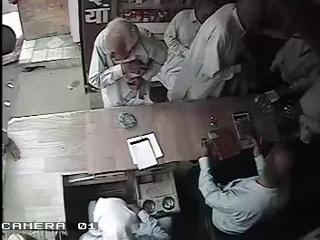Normal: (196, 132, 294, 240), (88, 18, 168, 108), (156, 0, 226, 95)
